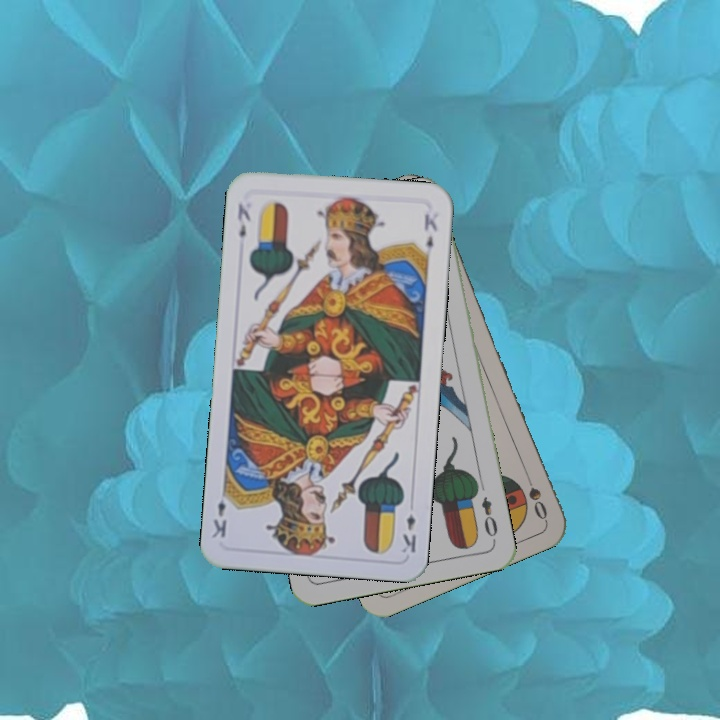EK: (398, 510, 419, 556), (233, 199, 253, 241)
EO: (477, 493, 501, 544)
SO: (520, 465, 550, 523)
